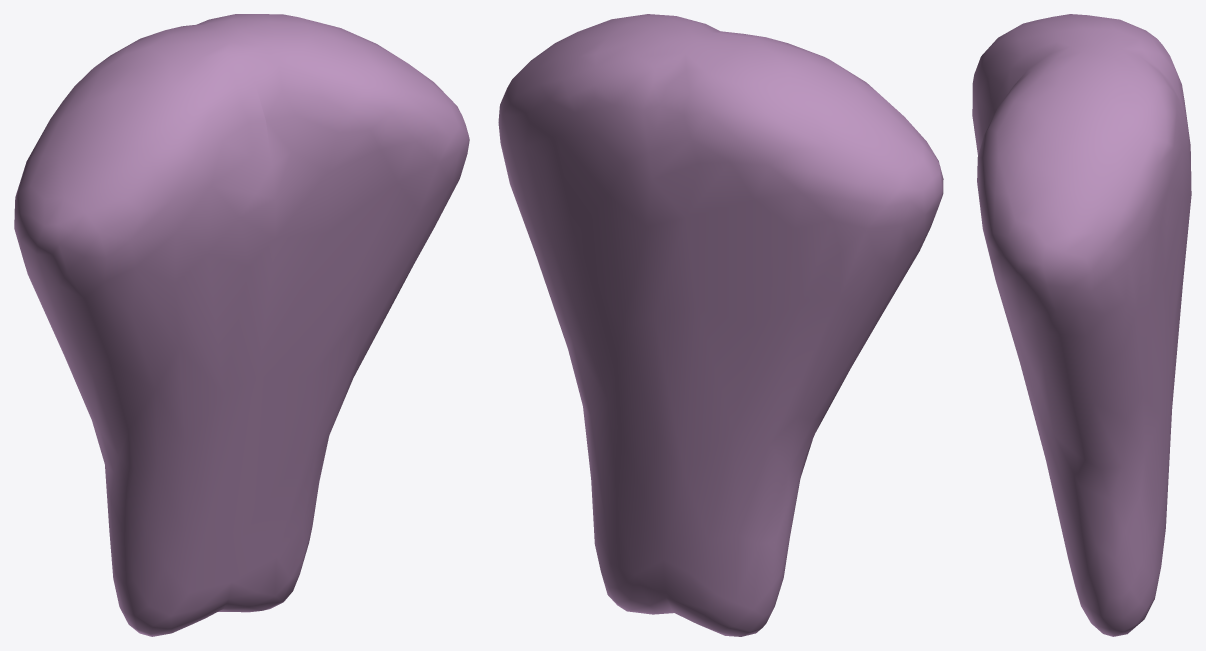
3 renders of one model, left to right at view 1: azimuth 30°, elevation 25°; view 2: azimuth 150°, elevation 25°; view 3: azimuth 270°, elevation 25°, orthographic. The views are drawn at different scales.
Visible parts, largest first — view 1: 蚓叶; view 2: 蚓叶; view 3: 蚓叶.
Boxes of the visible parts, x1=… form: 蚓叶: x1=14, y1=14, x2=469, y2=636; 蚓叶: x1=498, y1=14, x2=943, y2=636; 蚓叶: x1=972, y1=14, x2=1191, y2=636.
Bounding box in the file's own units: 0.0195 × 0.0254 × 0.00896.
